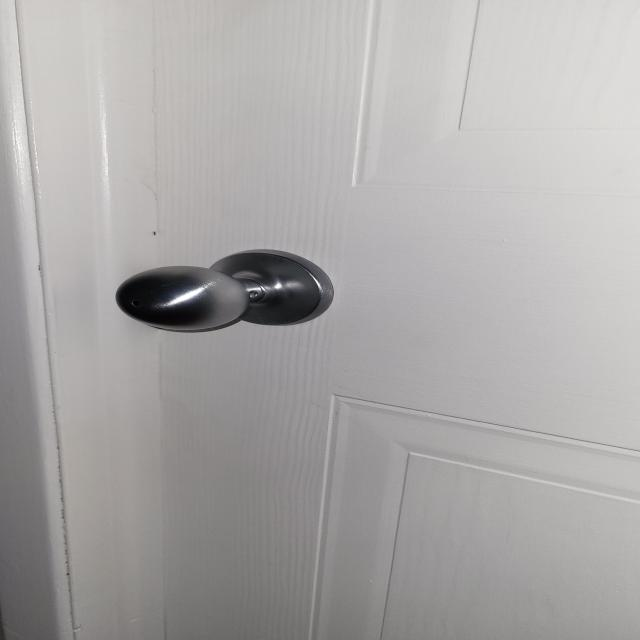door-knob: (116, 250, 333, 331)
